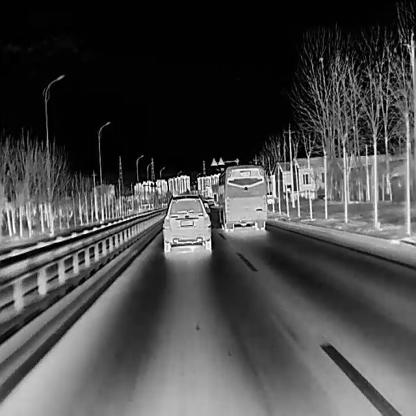bus: (213, 162, 267, 232)
car: (161, 192, 211, 252)
